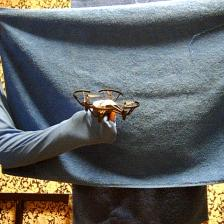drone: (72, 84, 142, 124)
